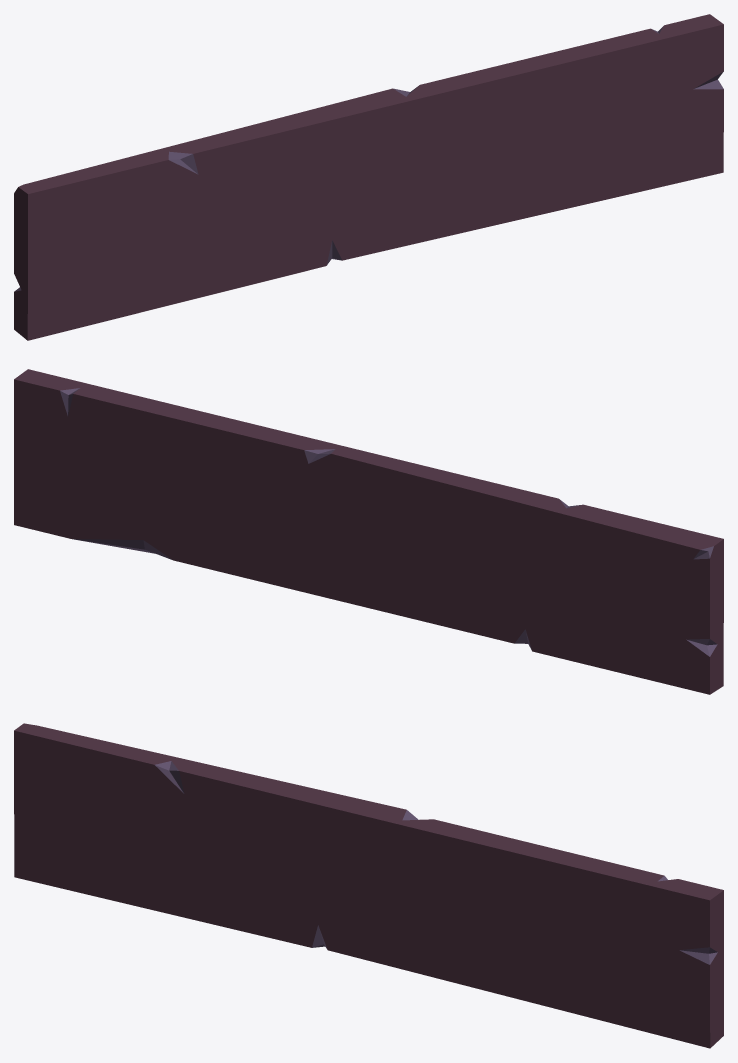
File: Plank.fbx
3 views of the same model, one above another, from view 1: azimuth 30°, elevation 25°; view 2: azimuth 150°, elevation 25°; view 3: azimuth 330°, elevation 25° (orthographic).
Parts seen in each view (by area): view 1: Plank; view 2: Plank; view 3: Plank.
Part boxes in pixels (x1,y1,x2,y2): Plank: [14, 14, 723, 340]; Plank: [14, 369, 723, 694]; Plank: [14, 723, 723, 1048].
Size of the model in its own units: 200 by 41.59 by 7.15.
